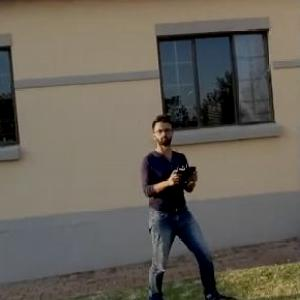follow: (139, 112, 241, 299)
